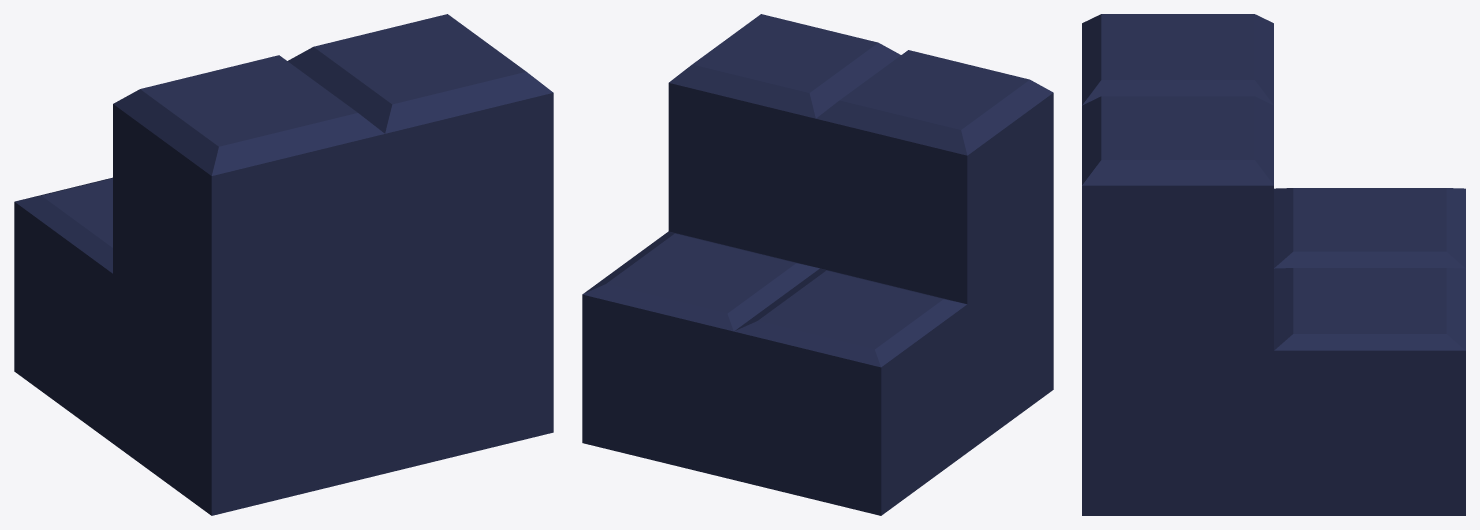
Rendered from Step.fbx.
3 views of the same model, side by side, from view 1: azimuth 30°, elevation 25°; view 2: azimuth 150°, elevation 25°; view 3: azimuth 270°, elevation 25° (orthographic). The views are drawn at different scales.
Parts seen in each view (by area): view 1: obj_0.012; view 2: obj_0.012; view 3: obj_0.012.
Part boxes in pixels (box(x1,y1,x2,y2)): obj_0.012: box(14, 14, 553, 515); obj_0.012: box(582, 14, 1053, 515); obj_0.012: box(1082, 14, 1465, 515).
Size of the model in its own units: 2000 by 2000 by 2000.
